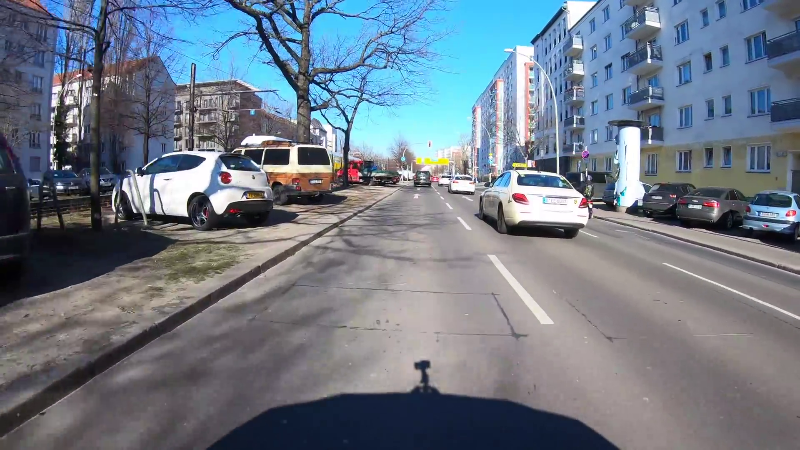Plate: (542, 196, 569, 204), (245, 189, 264, 198), (758, 210, 778, 216), (687, 203, 703, 210)
